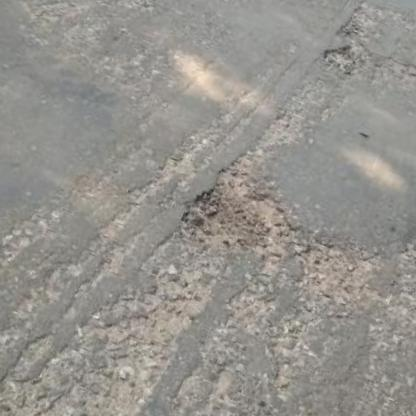pothole: (174, 163, 309, 275), (316, 37, 364, 82)
